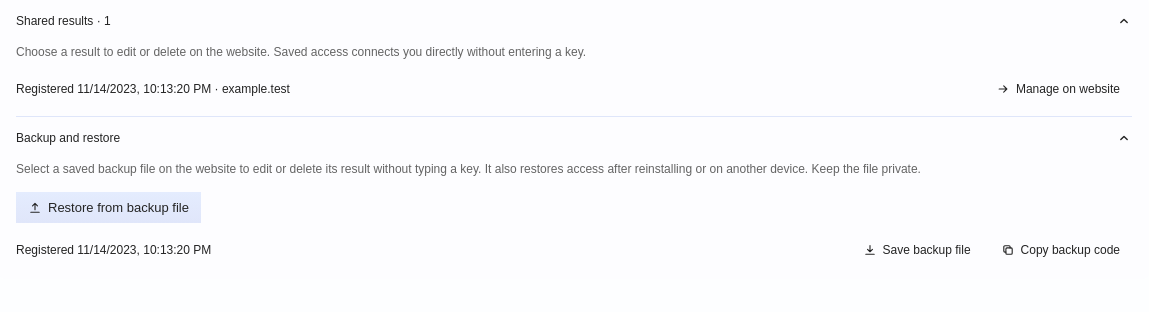
Test: owned recovery list › shows backup actions immediately without creating a backup automatically
Expected: the text "Registered 11/14/2023, 10:13:20 PM · example.test" is shown, [16,80,290,98]
Expected: the button "Save backup file" is shown, [850,235,983,265]
Click the button "Copy backup code". click: (1060, 250)
box: [989,235,1132,265]
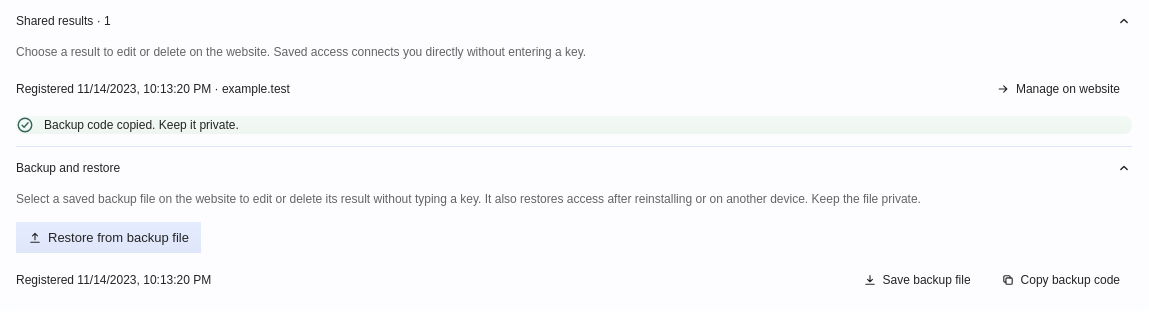
Now the text "Backup code copied. Keep it private." is shown, box [44,118,239,132]
Click the button "Save backup file". click: (917, 280)
box: [850,265,983,295]
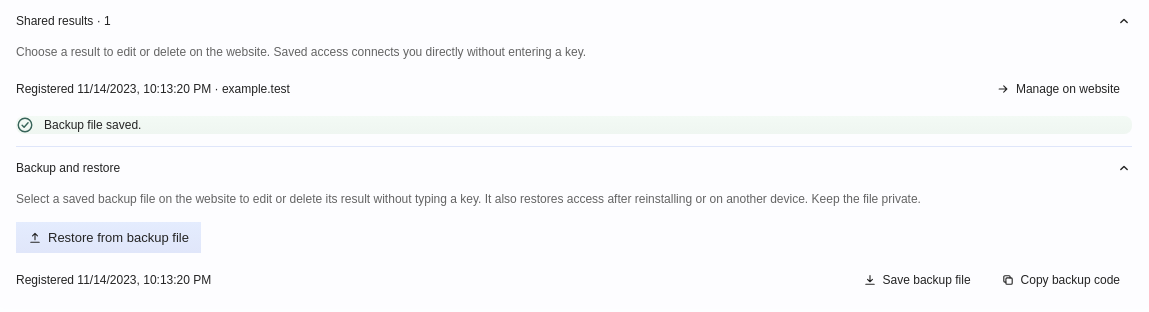
Now the text "Backup file saved." is shown, box [44,118,141,132]
